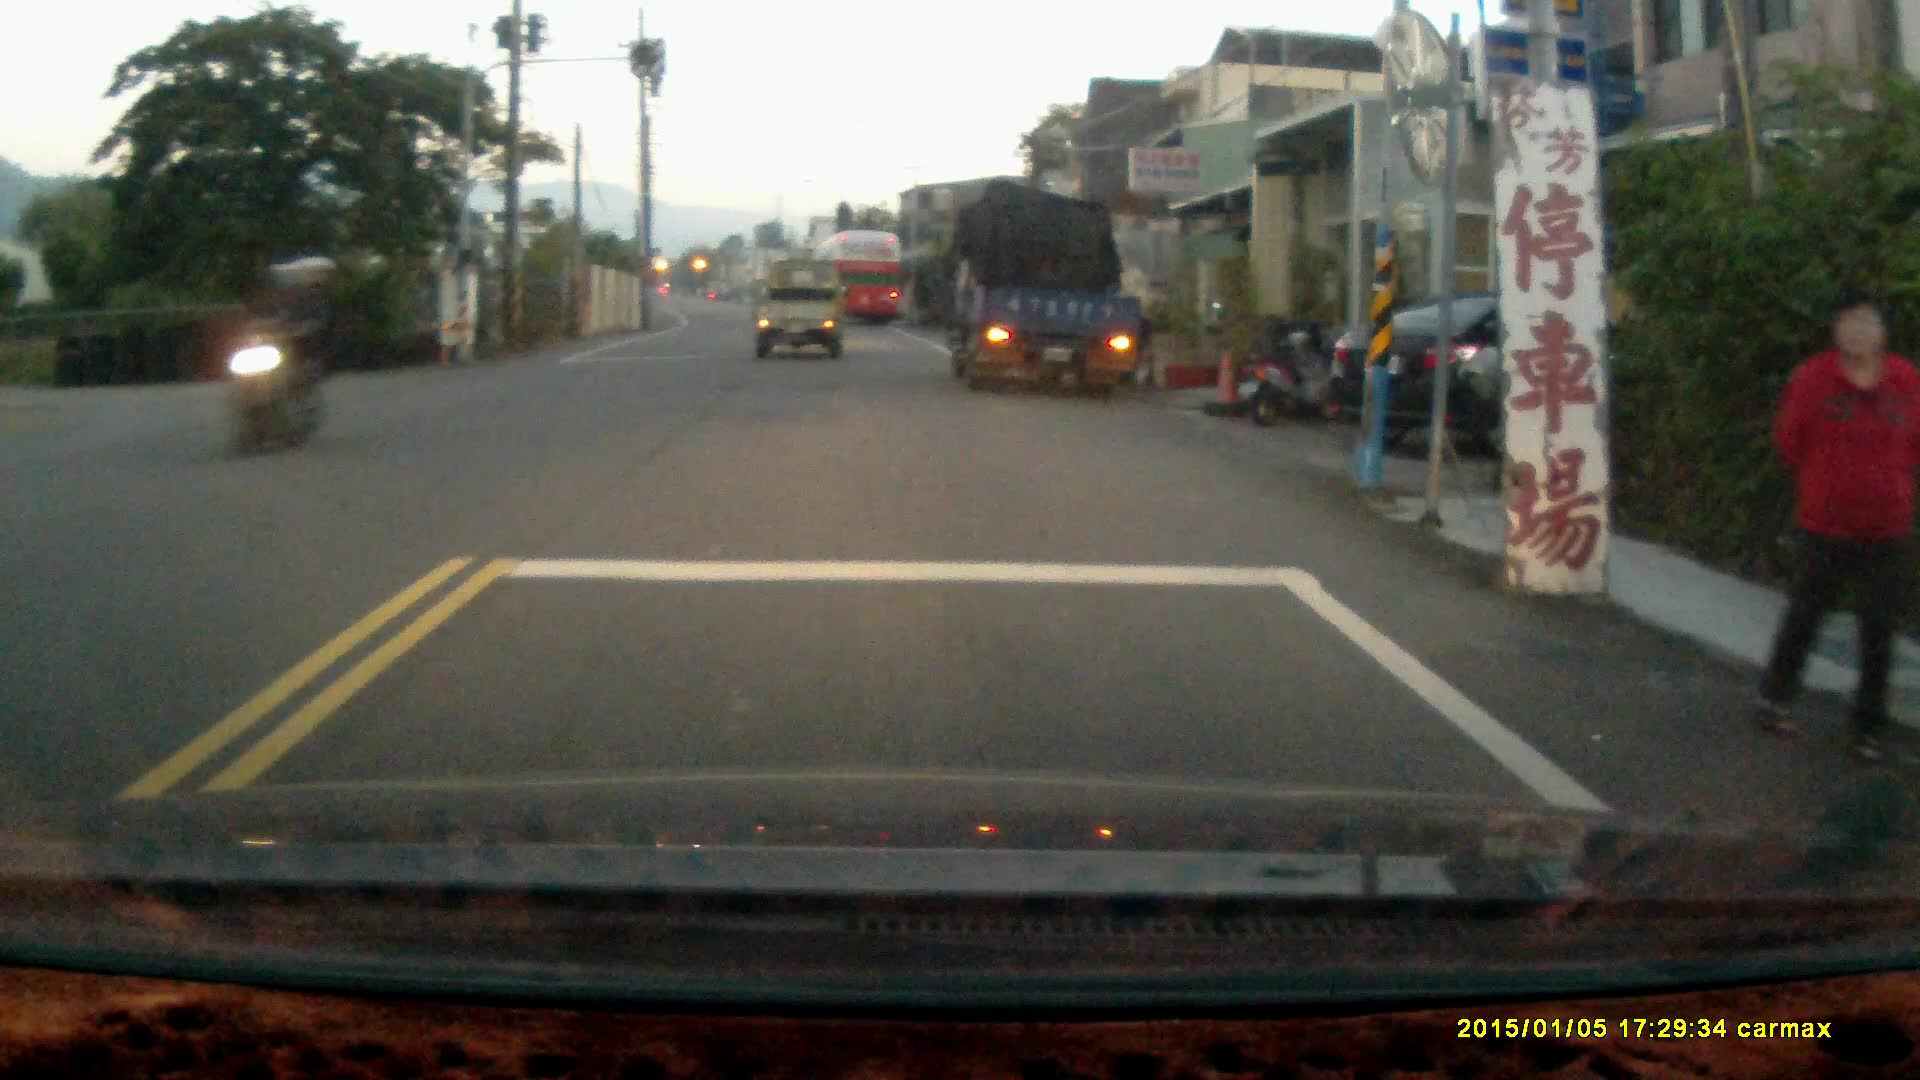pedestrian: (1745, 283, 1918, 768)
rider: (219, 253, 342, 461)
vehicle: (1319, 288, 1716, 465), (947, 187, 1144, 388), (812, 229, 909, 332), (751, 260, 843, 356)
